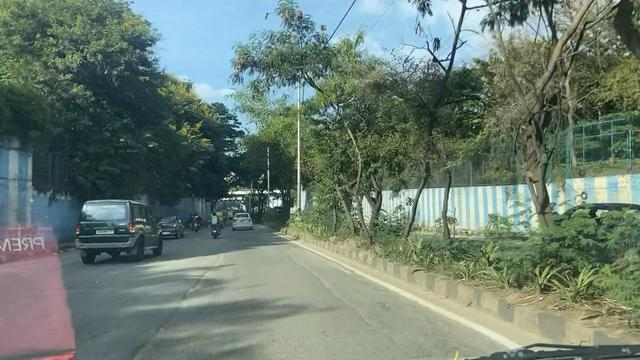LMV: (77, 198, 162, 255), (208, 212, 222, 237), (233, 211, 251, 229)
RoadDamages: (138, 253, 223, 353), (289, 247, 375, 331)
